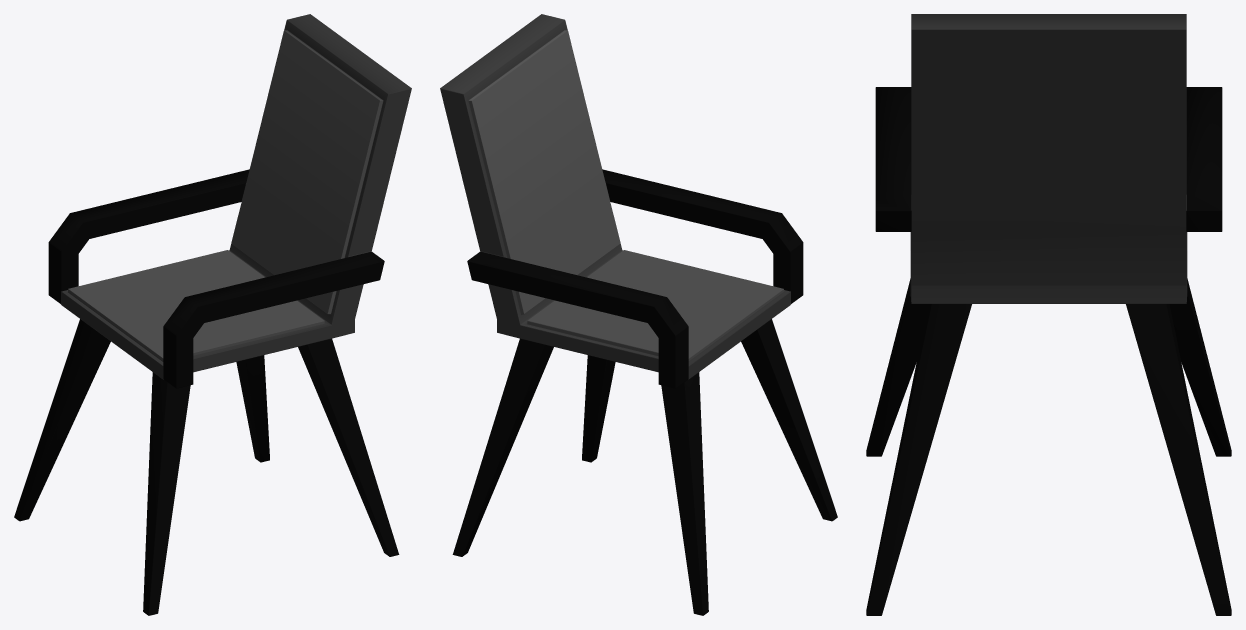
File: Silla.fbx
The picture shows the model from 3 angles, left to right: view 1: azimuth 30°, elevation 25°; view 2: azimuth 150°, elevation 25°; view 3: azimuth 270°, elevation 25°; orthographic projection. The views are drawn at different scales.
Visible parts, largest first — view 1: Chair.001; view 2: Chair.001; view 3: Chair.001.
Part boxes in pixels (x1,y1,x2,y2): Chair.001: [14, 14, 411, 615]; Chair.001: [440, 14, 837, 615]; Chair.001: [866, 14, 1231, 615].
Bounding box in the file's own units: 59.46 × 90.83 × 49.6.
Materials: 1 (1 with a texture image).
